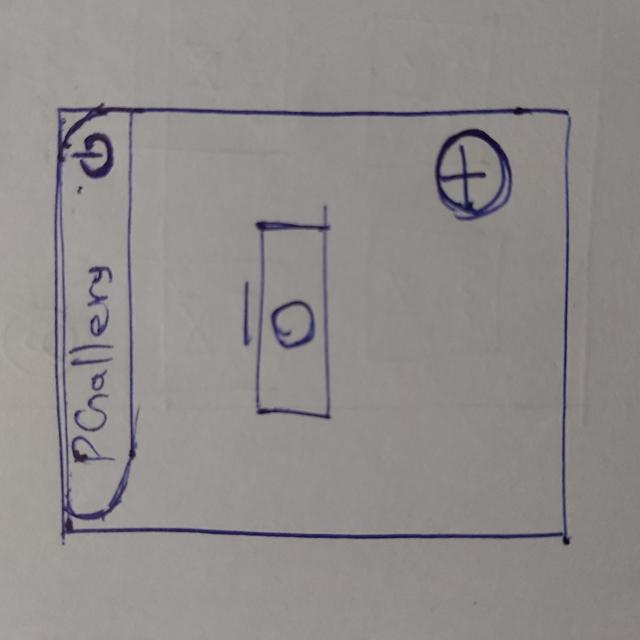AppBar: (51, 103, 138, 535)
Fab: (434, 126, 516, 224)
IconButton: (69, 131, 120, 183)
Image: (240, 210, 342, 420)
TextView: (69, 257, 117, 471)
